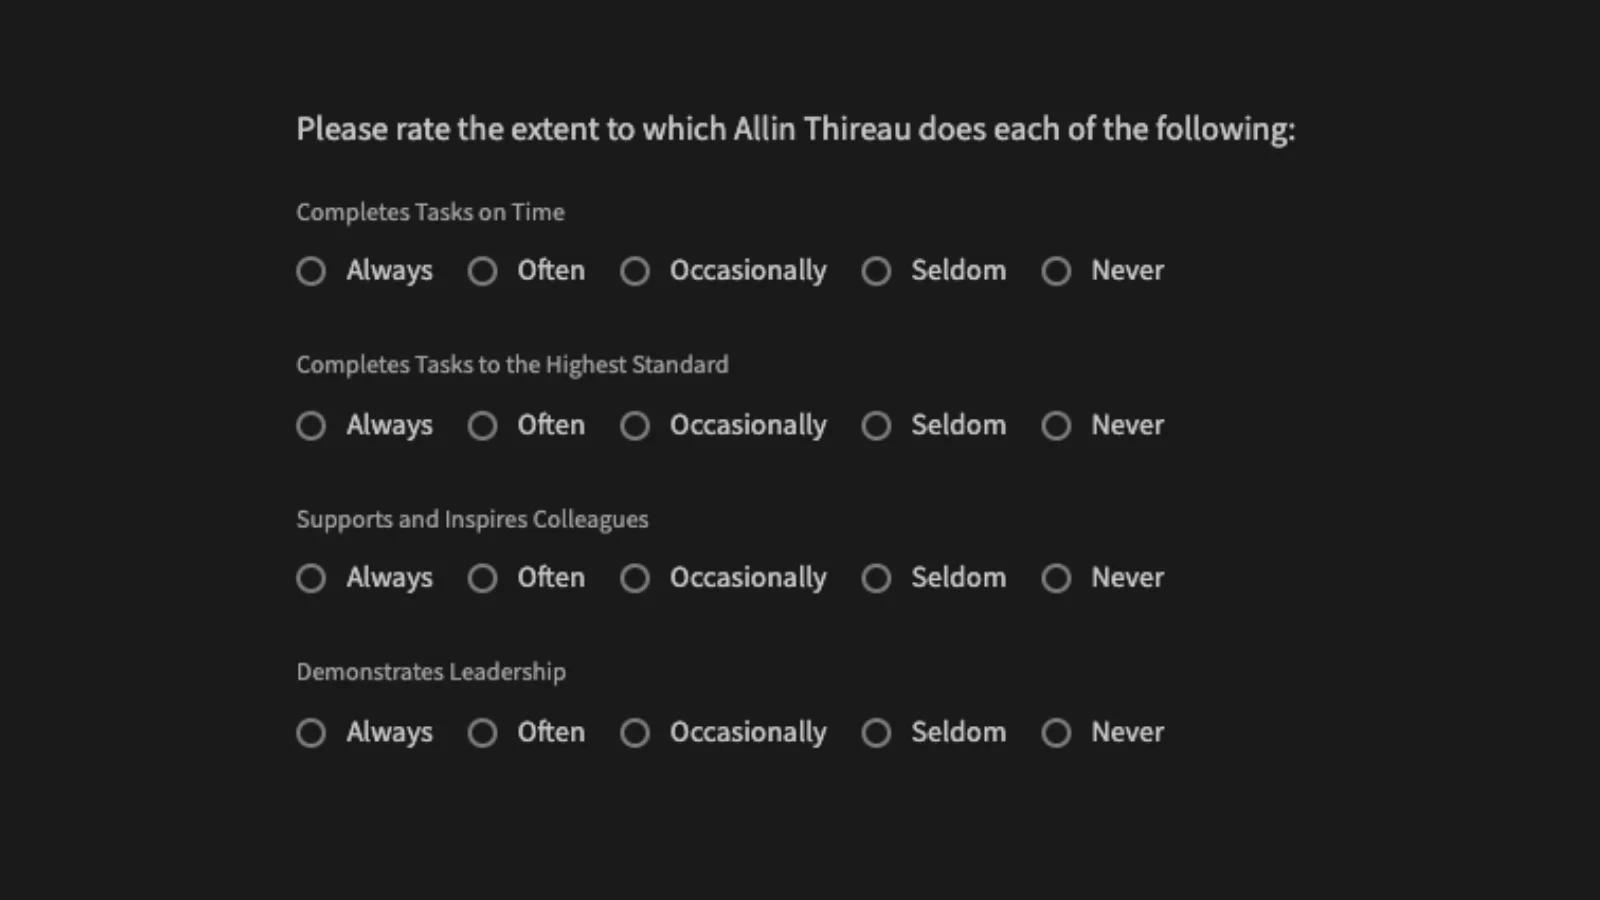label: (295, 115, 1304, 149), (296, 200, 568, 226), (671, 256, 831, 288), (670, 721, 829, 749), (673, 566, 831, 595), (670, 414, 827, 443), (345, 411, 435, 443), (346, 257, 437, 288), (347, 719, 436, 749), (908, 411, 1007, 438), (348, 566, 437, 595), (912, 259, 1008, 284), (910, 565, 1009, 588), (910, 721, 1008, 744), (518, 411, 589, 438), (1093, 411, 1166, 437), (516, 563, 588, 589), (519, 719, 589, 745), (1090, 260, 1169, 282), (1092, 721, 1167, 744), (1091, 566, 1167, 588), (521, 258, 587, 282)
radio: (295, 563, 329, 595), (296, 716, 327, 749), (467, 719, 500, 749), (862, 716, 892, 749), (296, 257, 327, 288), (467, 564, 499, 595), (862, 411, 893, 442), (1042, 718, 1073, 749), (295, 412, 329, 441), (468, 411, 499, 442), (621, 564, 652, 595), (863, 564, 893, 595), (863, 257, 895, 287), (1042, 257, 1074, 287), (622, 255, 651, 288), (468, 257, 499, 287), (622, 411, 652, 442), (1042, 411, 1073, 441), (622, 719, 651, 749), (1044, 564, 1073, 593)
